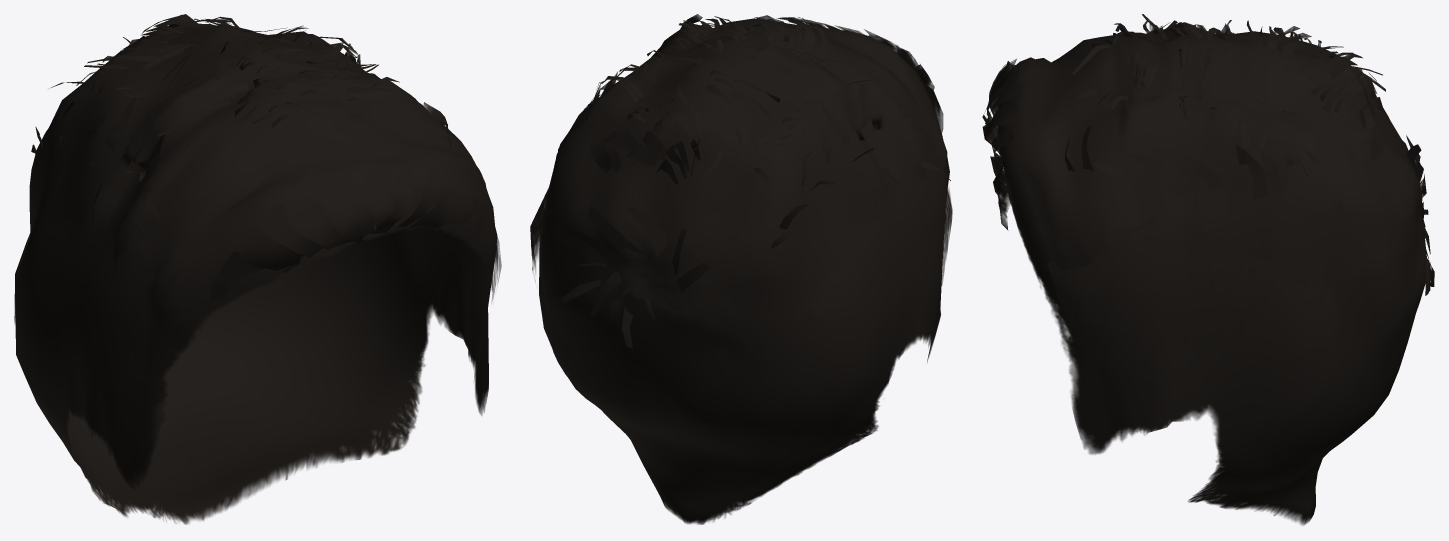
The model's file is hair_sidepart.glb.
3 renders of one model, left to right at view 1: azimuth 30°, elevation 25°; view 2: azimuth 150°, elevation 25°; view 3: azimuth 270°, elevation 25°, orthographic. The views are drawn at different scales.
Visible parts, largest first — view 1: hair_sidepart; view 2: hair_sidepart; view 3: hair_sidepart.
Boxes of the visible parts, left/top/right/bottom form: hair_sidepart: left=14, top=14, right=501, bottom=524; hair_sidepart: left=530, top=14, right=952, bottom=524; hair_sidepart: left=982, top=14, right=1434, bottom=525.
Size of the model in its own units: 0.2206 by 0.2888 by 0.2414.
Materials: 1 (1 with a texture image).
